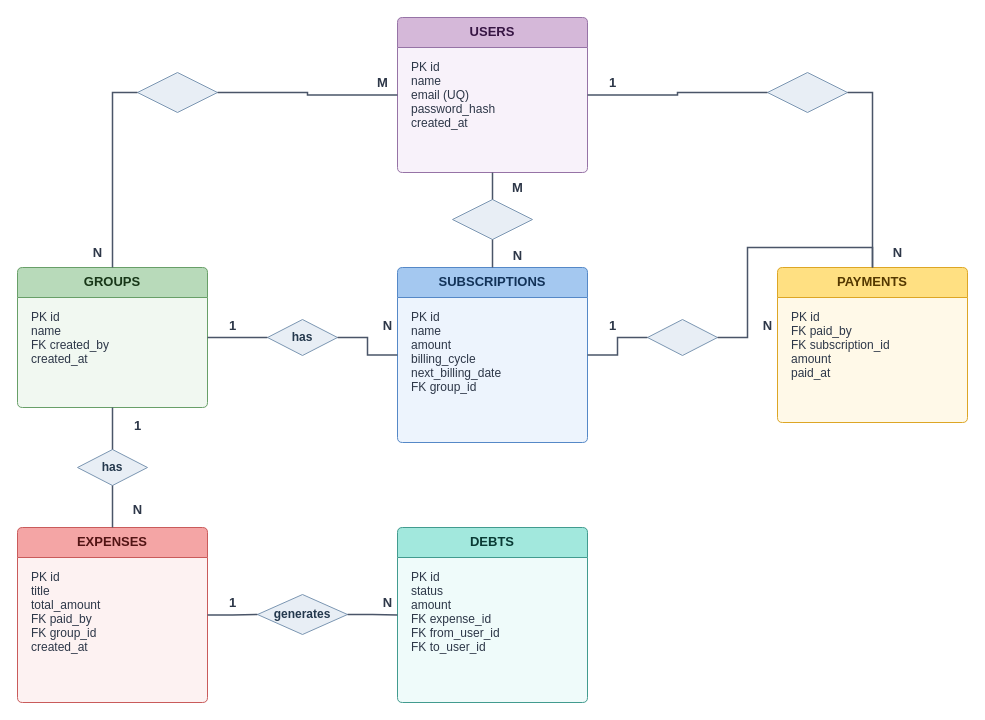
This 985x720 diagram has some shape labels left out. Here are the shapes that lost their labels. From the top down, the centre of each, then its label:
At (177,92): "joins".
At (807,92): "makes".
At (492,219): "shares".
At (682,337): "for".
